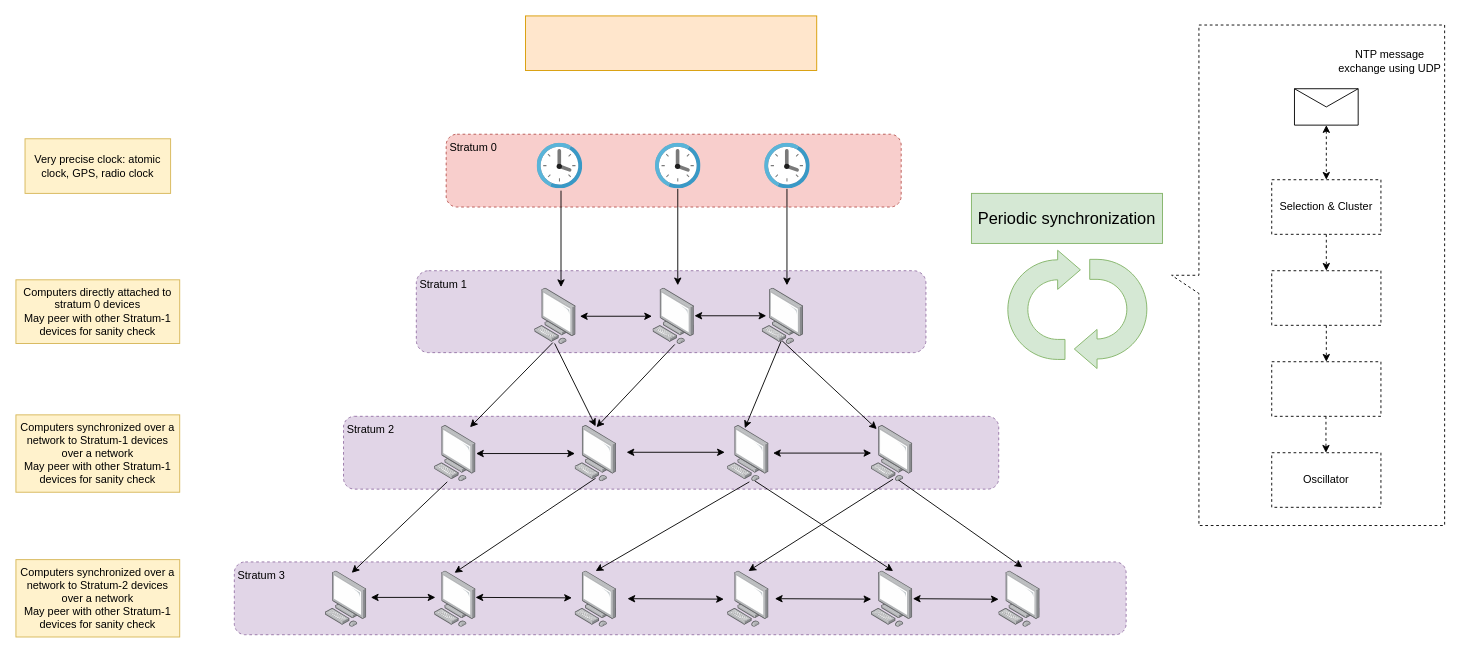
This 1461x653 diagram has some shape labels left out. Here are the shapes that lost their labels. From the top down, the centre of each, then its label:
At (671,43): "How NTP Works in a Nutshell".
At (1326,297): "Combine".
At (1326,388): "PLL".
